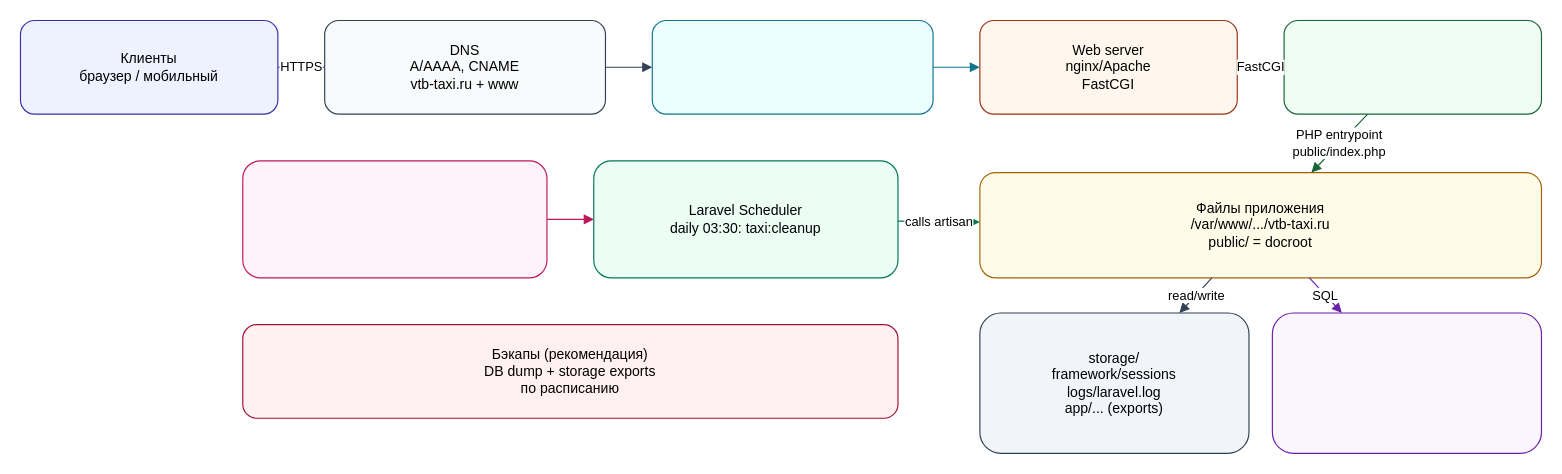
This 1562x474 diagram has some shape labels left out. Here are the shapes that lost their labels. From the top down, the centre of each, then its label:
the point at 792,66: TLS termination Let's Encrypt (domain + www)
the point at 1412,66: PHP runtime PHP-FPM/CGI PHP 8.3
the point at 394,219: Cron (панель хостинга) каждую минуту: artisan schedule:run
the point at 1406,382: MySQL u..._vtb_corporate_taxi таблицы: users, temp_requests, requests...
